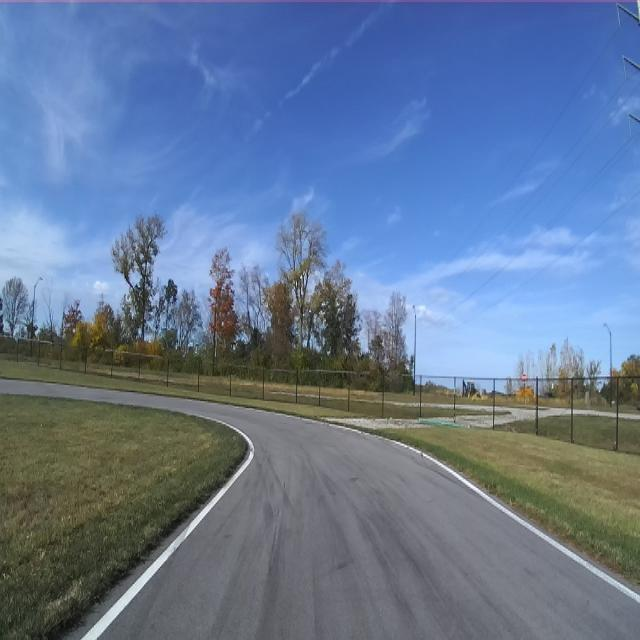white-line: (372, 436, 640, 604), (82, 412, 254, 639), (309, 418, 370, 434)
